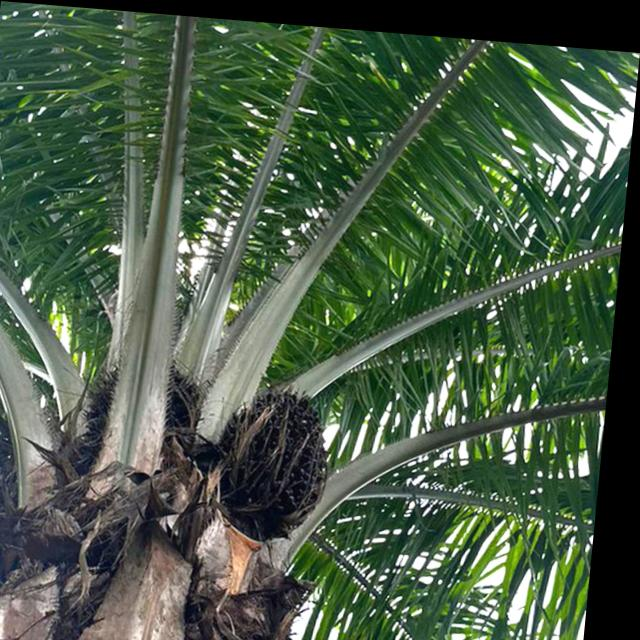almost: (204, 374, 345, 536)
